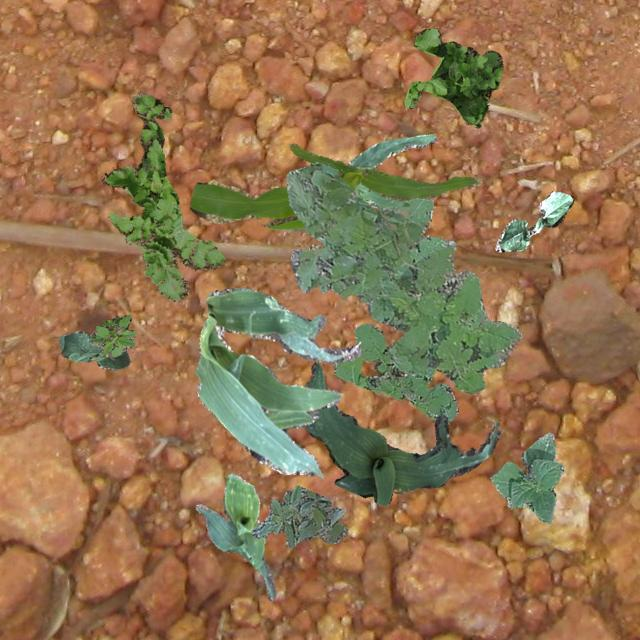crop: (193, 286, 360, 478), (304, 360, 498, 504), (188, 142, 481, 232), (194, 472, 274, 600), (348, 133, 434, 210), (490, 432, 562, 522), (494, 190, 572, 250), (58, 329, 128, 368)
weed: (286, 160, 520, 392), (103, 90, 224, 300), (332, 322, 458, 422), (404, 27, 502, 126), (250, 484, 346, 546), (89, 314, 134, 356)
